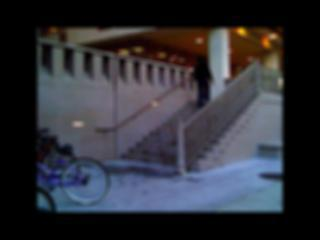Escaleras: (126, 91, 235, 183)
